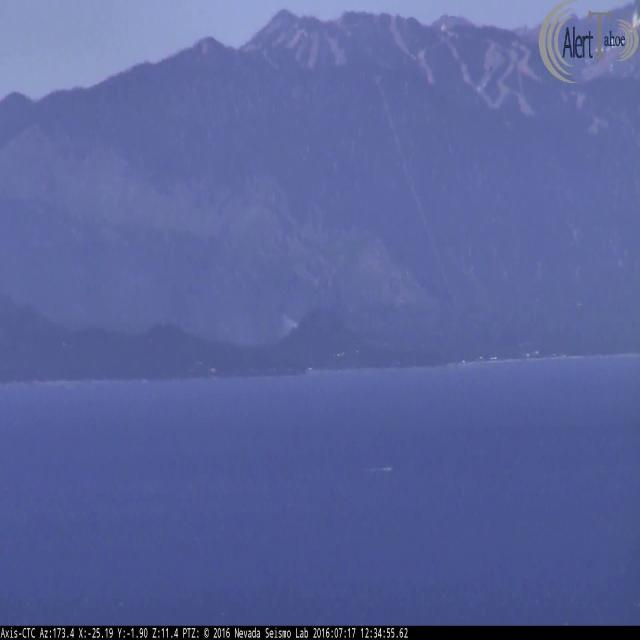smoke: (272, 301, 299, 340)
